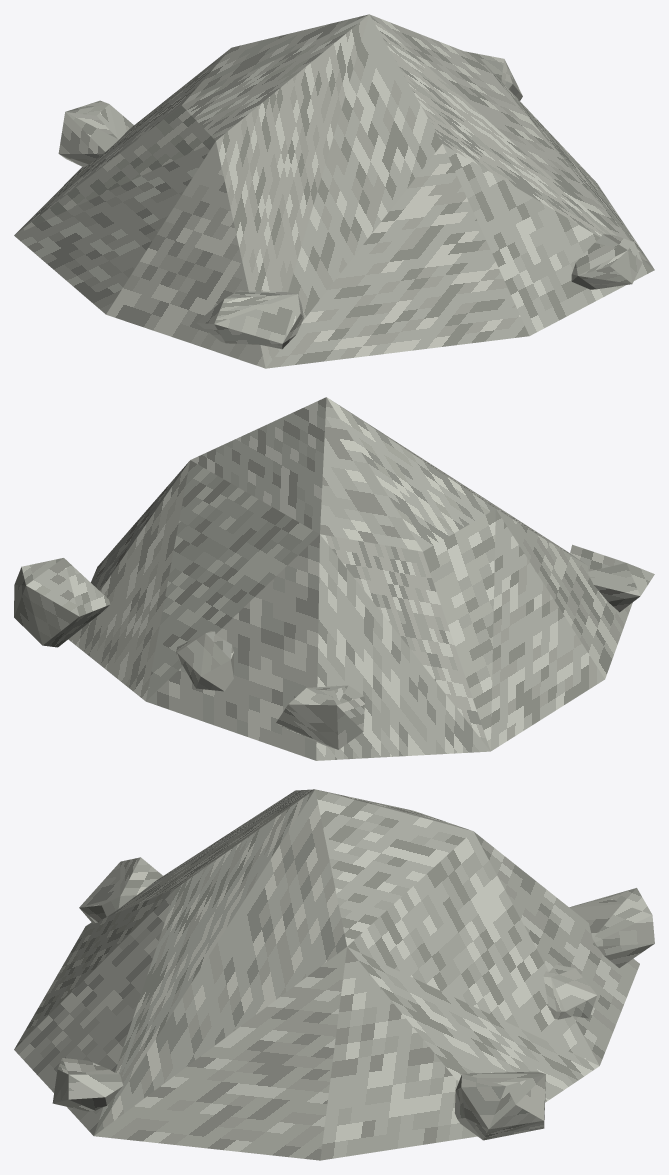
The model's file is f_rubble_volc.glb.
3 views of the same model, one above another, from view 1: azimuth 30°, elevation 25°; view 2: azimuth 150°, elevation 25°; view 3: azimuth 270°, elevation 25° (orthographic). The views are drawn at different scales.
Parts seen in each view (by area): view 1: block_mound, block_debris-1, block_debris-7, block_debris-3, block_debris-5; view 2: block_mound, block_debris-5, block_debris-7, block_debris-1, block_debris-2; view 3: block_mound, block_debris-5, block_debris-7, block_debris-3, block_debris-1, block_debris-2.
Part boxes in pixels (x1,y1,x2,y2): block_mound: [14, 14, 654, 368]; block_debris-1: [196, 290, 303, 349]; block_debris-7: [58, 100, 133, 167]; block_debris-3: [571, 234, 642, 289]; block_debris-5: [465, 51, 522, 100]; block_mound: [68, 397, 632, 760]; block_debris-5: [14, 558, 110, 647]; block_debris-7: [276, 685, 364, 749]; block_debris-1: [570, 544, 654, 612]; block_debris-2: [176, 631, 233, 691]; block_mound: [14, 789, 639, 1160]; block_debris-5: [454, 1071, 545, 1140]; block_debris-7: [569, 888, 654, 967]; block_debris-3: [52, 1058, 123, 1111]; block_debris-1: [79, 857, 162, 923]; block_debris-2: [543, 964, 597, 1019].
Size of the model in its own units: 0.7938 by 0.34 by 0.7954.
Materials: 1 (1 with a texture image).
